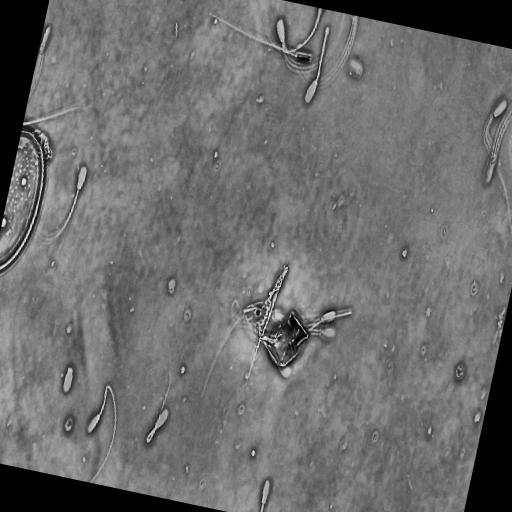coiled-tail: (315, 27, 328, 80)
dirt-particles: (0, 122, 54, 276), (241, 257, 311, 371)
folded-tail: (91, 385, 116, 482), (146, 367, 171, 443)
loose-head: (60, 365, 75, 400)
normal: (26, 161, 89, 245), (480, 93, 512, 250), (86, 381, 120, 482), (143, 359, 173, 447), (303, 24, 330, 106)
